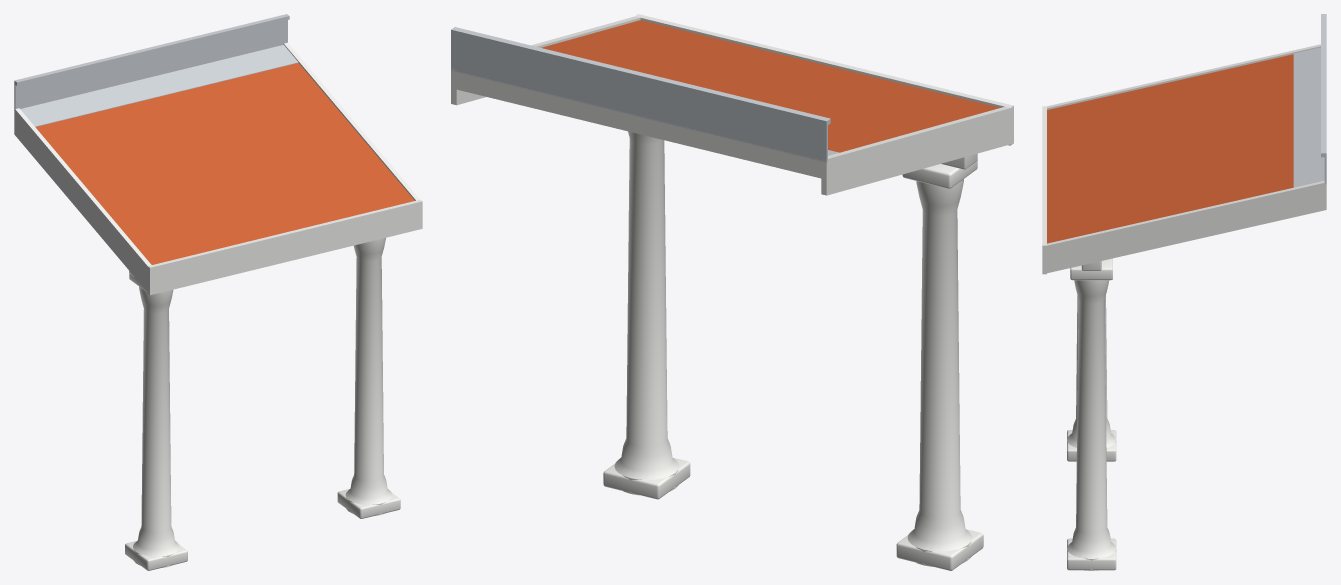
Rendered from alpendre_2m.glb.
3 views of the same model, side by side, from view 1: azimuth 30°, elevation 25°; view 2: azimuth 150°, elevation 25°; view 3: azimuth 270°, elevation 25° (orthographic). The views are drawn at different scales.
Visible parts, largest first — view 1: alpendre_2m; view 2: alpendre_2m; view 3: alpendre_2m.
Part boxes in pixels (x1,y1,x2,y2): alpendre_2m: (14, 14, 422, 570); alpendre_2m: (451, 14, 1013, 570); alpendre_2m: (1042, 14, 1326, 570).
Size of the model in its own units: 2 by 2.82 by 1.72.
3 materials, 1 textured.
